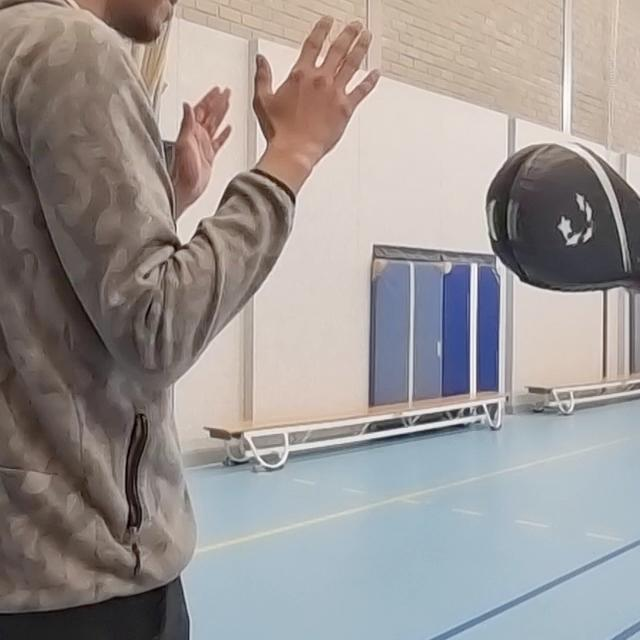paddle: (485, 139, 640, 296)
